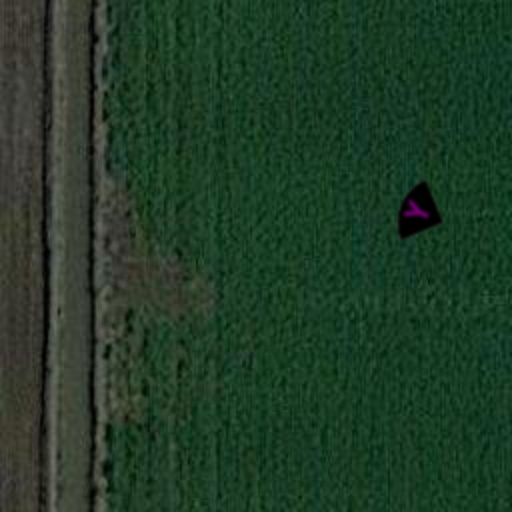quarter_circle: (376, 170, 460, 254)
